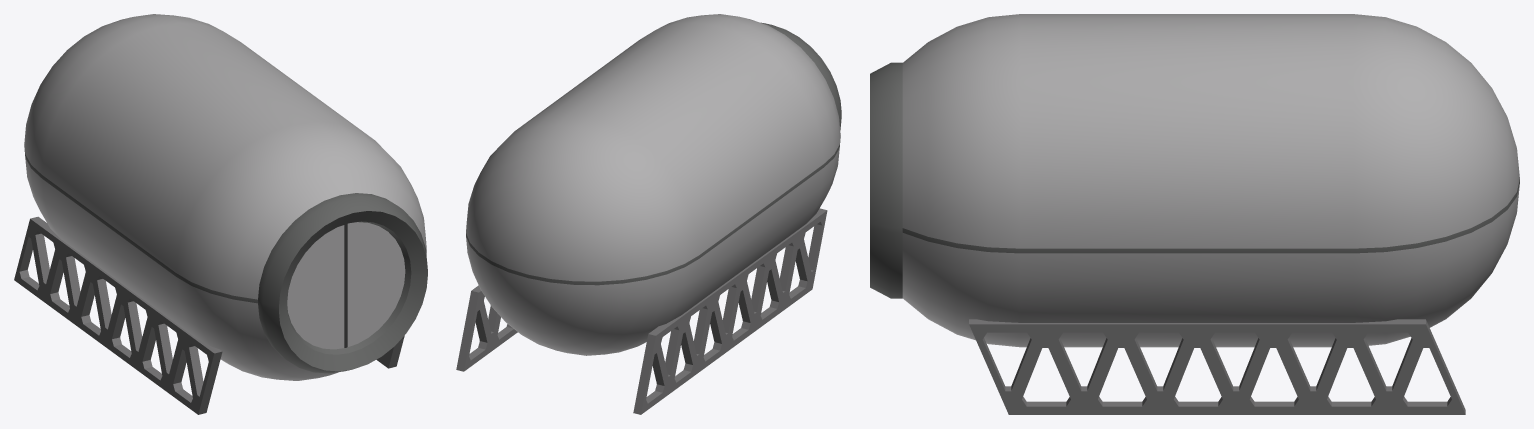
Rendered from House_Long_Sphere.obj.
The picture shows the model from 3 angles, left to right: view 1: azimuth 30°, elevation 25°; view 2: azimuth 150°, elevation 25°; view 3: azimuth 270°, elevation 25°; orthographic projection. The views are drawn at different scales.
Parts seen in each view (by area): view 1: House_Long_Sphere.014; view 2: House_Long_Sphere.014; view 3: House_Long_Sphere.014.
Part boxes in pixels (x1,y1,x2,y2): House_Long_Sphere.014: (14,14,427,414); House_Long_Sphere.014: (456,14,841,414); House_Long_Sphere.014: (870,14,1519,414).
Size of the model in its own units: 3.99 by 4.31 by 7.79.
